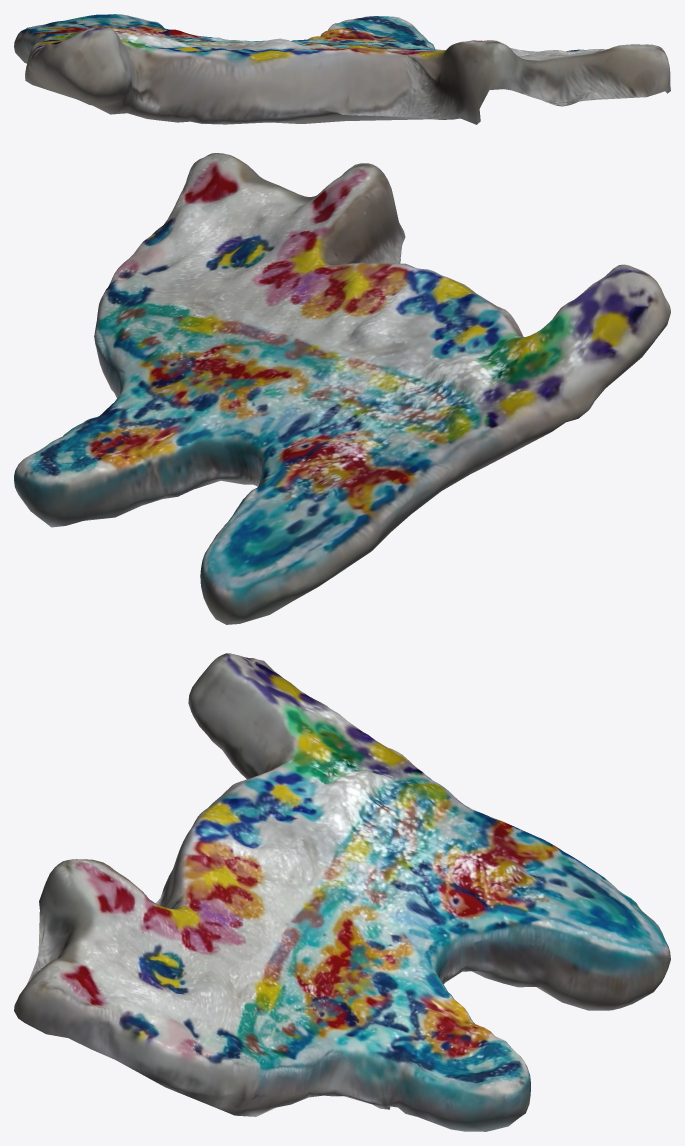
3 renders of one model, top to bottom at view 1: azimuth 30°, elevation 25°; view 2: azimuth 150°, elevation 25°; view 3: azimuth 270°, elevation 25°, orthographic. The views are drawn at different scales.
Size of the model in its own units: 0.4737 by 0.2034 by 0.4708.
1 material, 1 textured.
